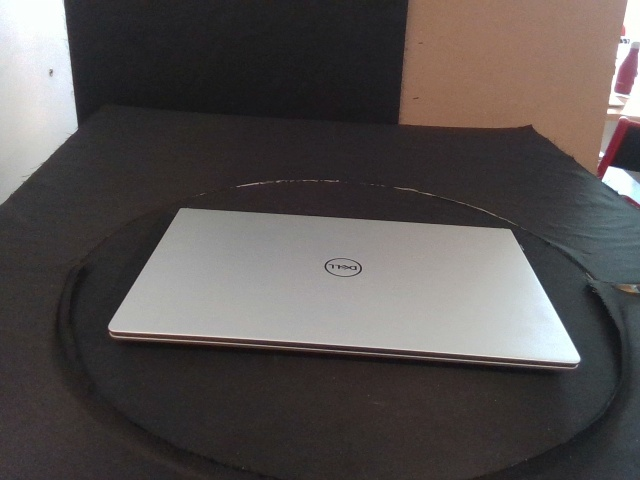laptop: (107, 206, 583, 372)
